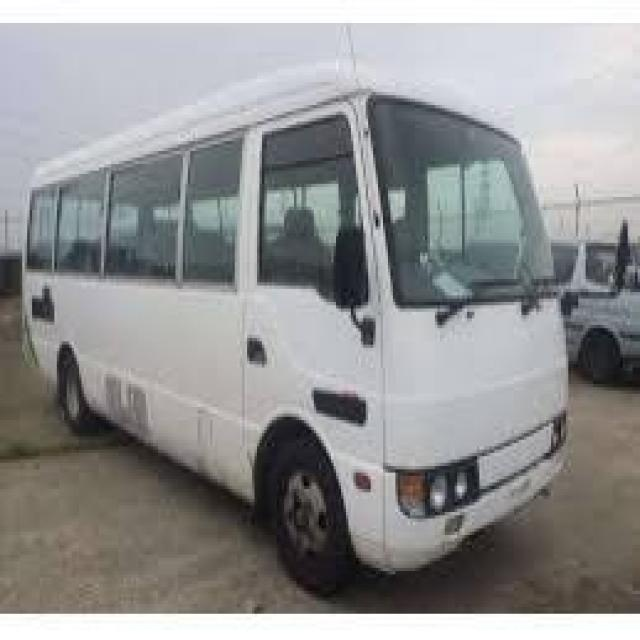Bus: (25, 56, 566, 594)
